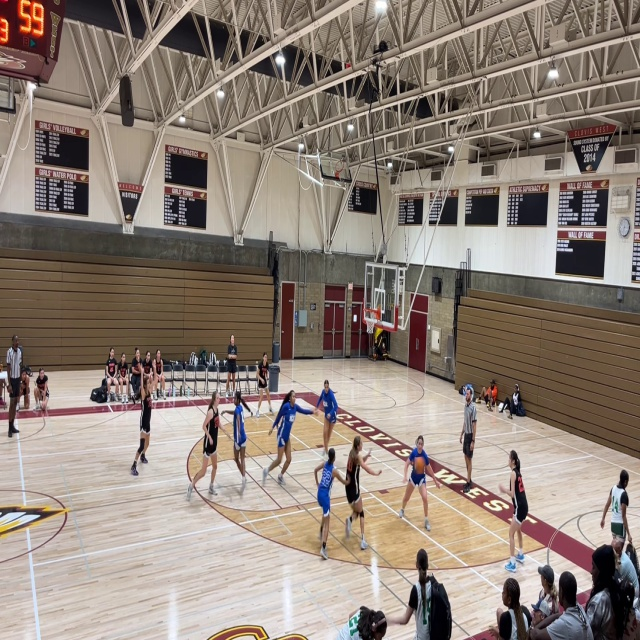Basketball: (413, 457, 425, 474)
